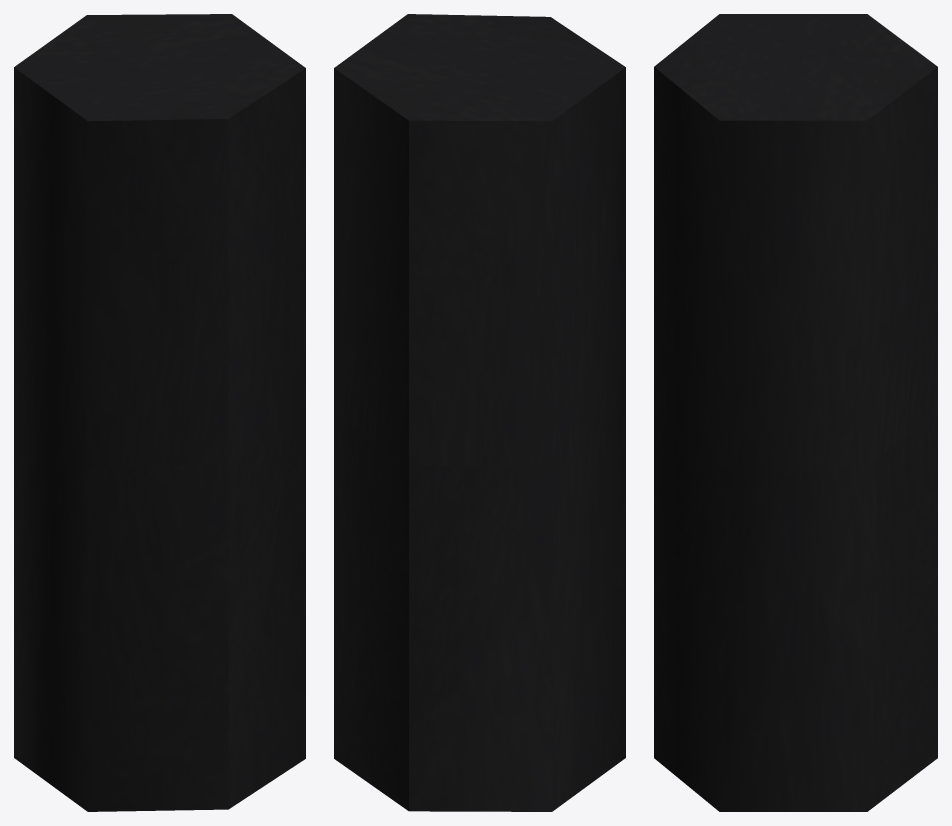
The model's file is Hexagon.fbx.
3 views of the same model, side by side, from view 1: azimuth 30°, elevation 25°; view 2: azimuth 150°, elevation 25°; view 3: azimuth 270°, elevation 25° (orthographic).
Parts seen in each view (by area): view 1: Cube; view 2: Cube; view 3: Cube.
Part boxes in pixels (box(x1,y1,x2,y2)): Cube: box(14, 14, 305, 811); Cube: box(334, 14, 625, 811); Cube: box(654, 14, 937, 811).
Size of the model in its own units: 79.67 by 241 by 89.7.
1 material, 1 textured.
